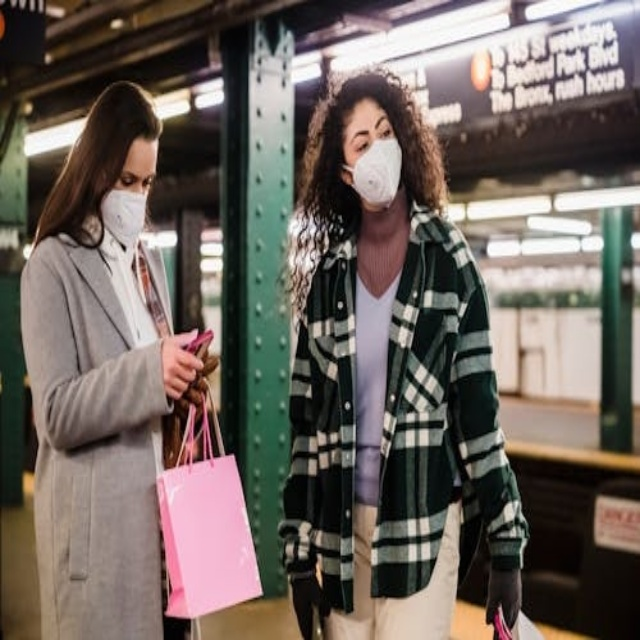Guantes: (290, 568, 331, 640), (486, 566, 522, 635)
Mascara: (342, 136, 403, 207), (99, 184, 150, 246)
Sin_gafas: (349, 113, 396, 158), (114, 163, 159, 194)
Sin_guantes: (159, 329, 207, 403)
